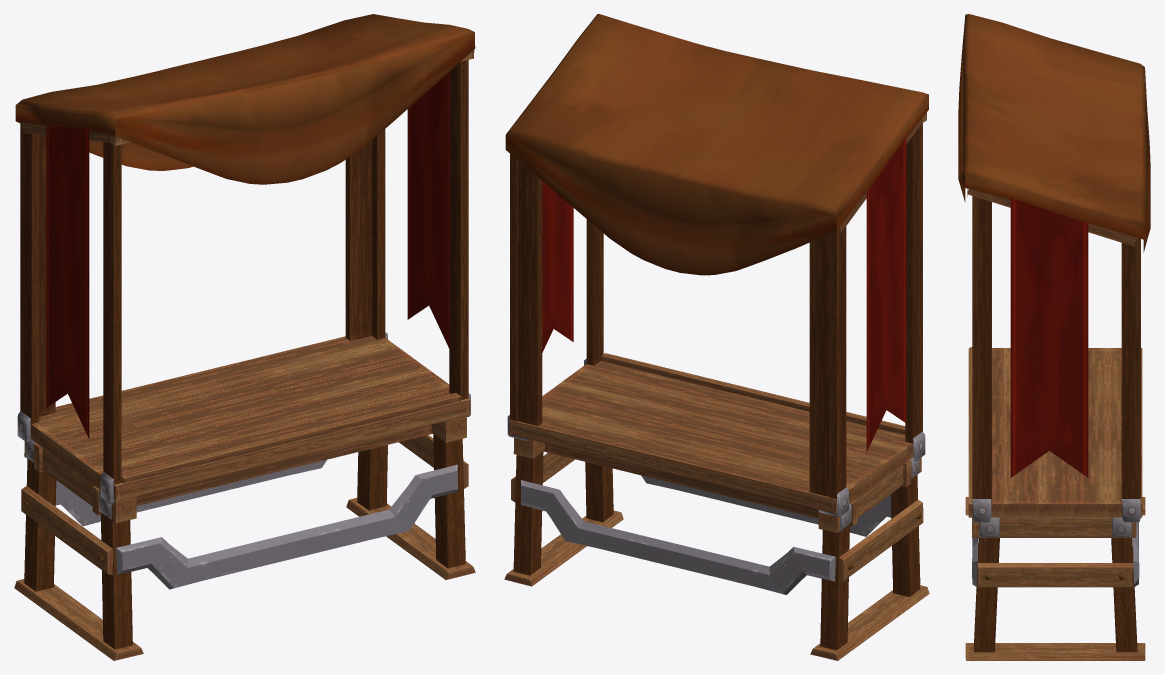
The model's file is quaternius-fantasy-props-stall-empty.glb.
3 views of the same model, side by side, from view 1: azimuth 30°, elevation 25°; view 2: azimuth 150°, elevation 25°; view 3: azimuth 270°, elevation 25° (orthographic). The views are drawn at different scales.
Parts seen in each view (by area): view 1: Stall_Empty; view 2: Stall_Empty; view 3: Stall_Empty.
Part boxes in pixels (<box>): Stall_Empty: <box>14,14,475,660</box>; Stall_Empty: <box>504,14,929,660</box>; Stall_Empty: <box>958,14,1150,660</box>.
Size of the model in its own units: 1.97 by 2.8 by 0.9936.
Materials: 3 (3 with a texture image).
